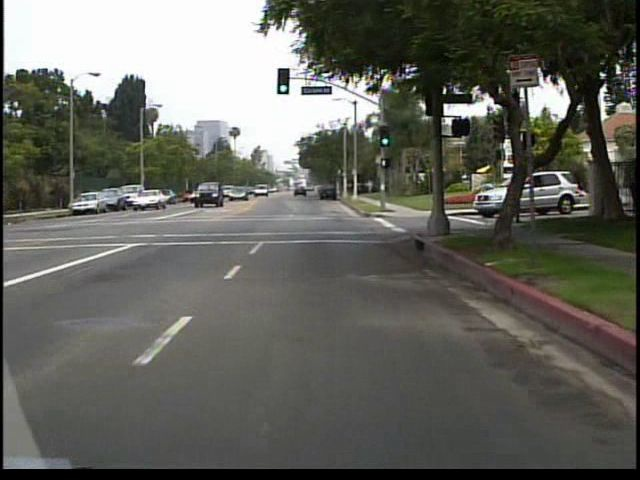person: (356, 176, 365, 200), (367, 176, 375, 196)
